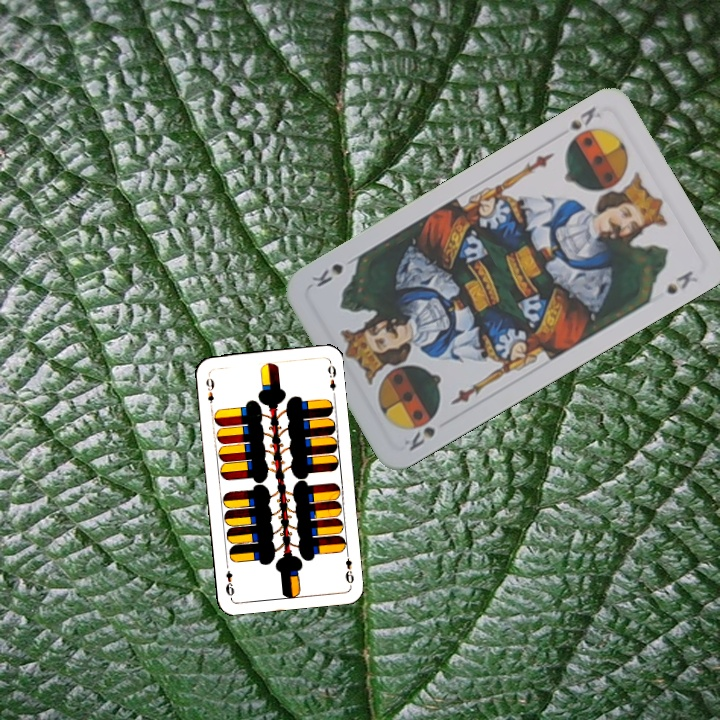E9: (341, 547, 356, 587), (202, 371, 217, 405)
SK: (562, 102, 603, 148), (399, 422, 438, 454)
